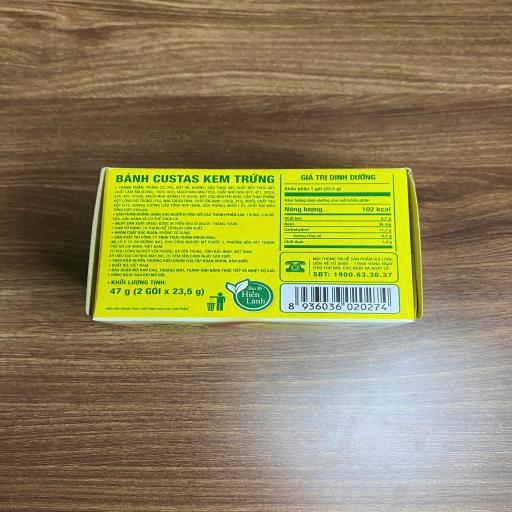custas: (87, 167, 424, 326)
